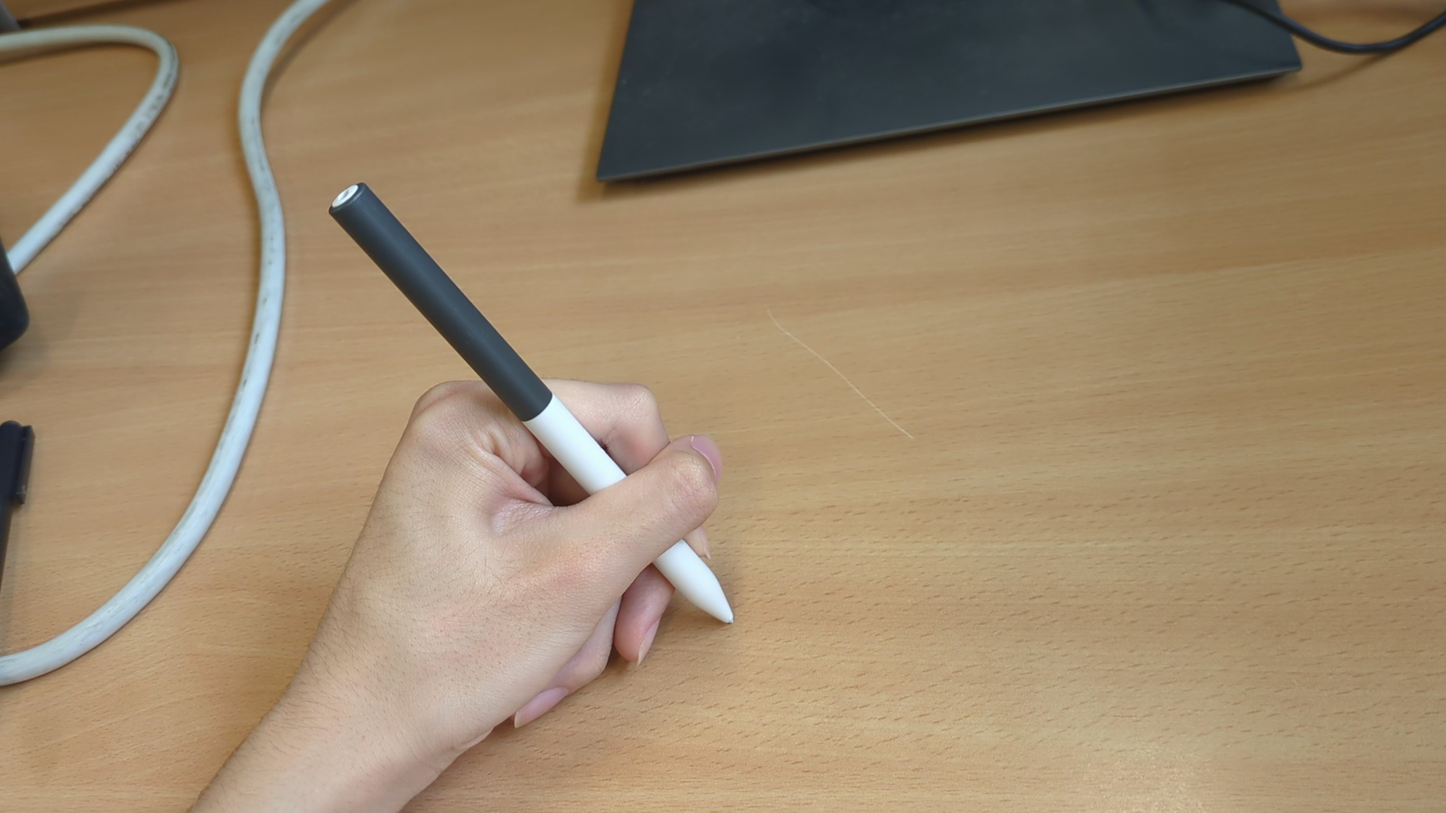pen: (326, 183, 744, 631)
tip: (712, 602, 740, 627)
